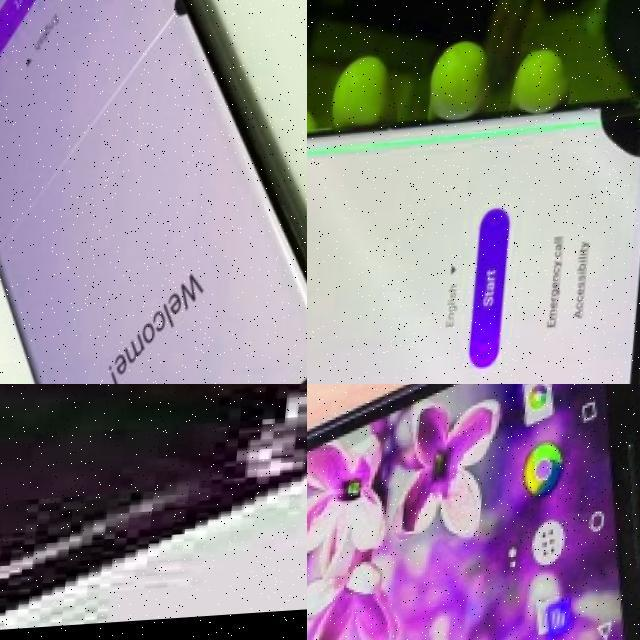dead pixel: (591, 90, 640, 196), (157, 0, 202, 36)
